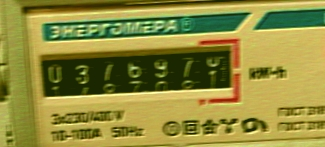0: (47, 63, 63, 86)
1: (206, 70, 219, 91)
3: (74, 64, 91, 87)
6: (126, 57, 142, 81)
7: (99, 60, 116, 84), (180, 56, 195, 80)
9: (152, 57, 168, 81)
screen: (30, 34, 245, 121)
